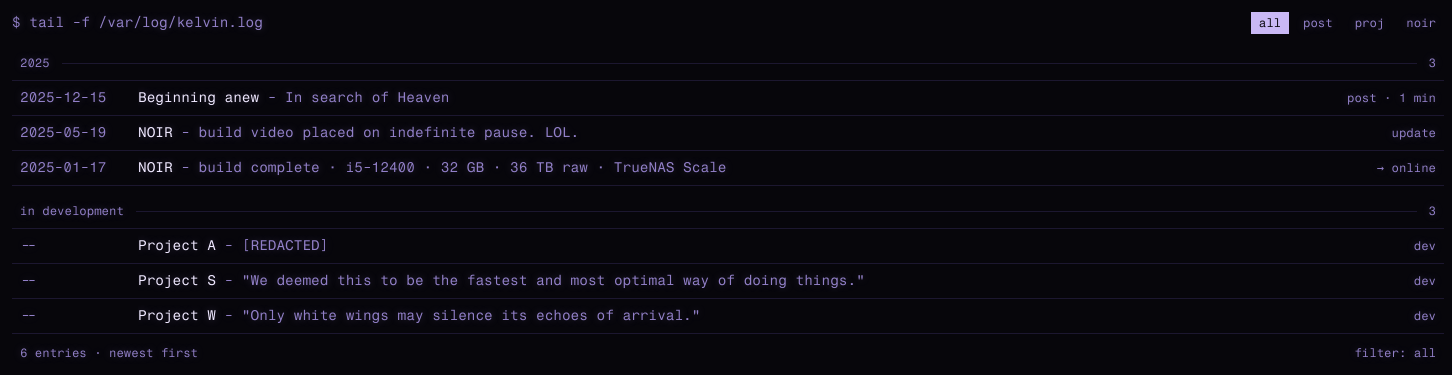
Test: Home › shows the two NOIR updates for the noir filter
The width and height of the screenshot is (1452, 375).
Click the button "noir" at point(1421, 23), box [1398, 12, 1444, 34]
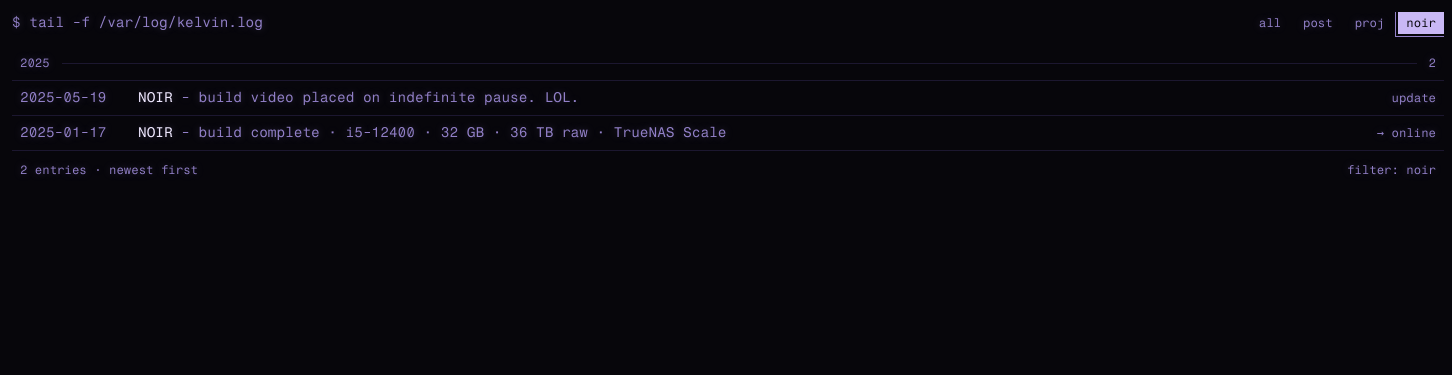
Check: the text "2 entries · newest first" is shown, box [20, 159, 198, 181]
Check: the text "filter: noir" is shown, box [1347, 159, 1436, 181]
